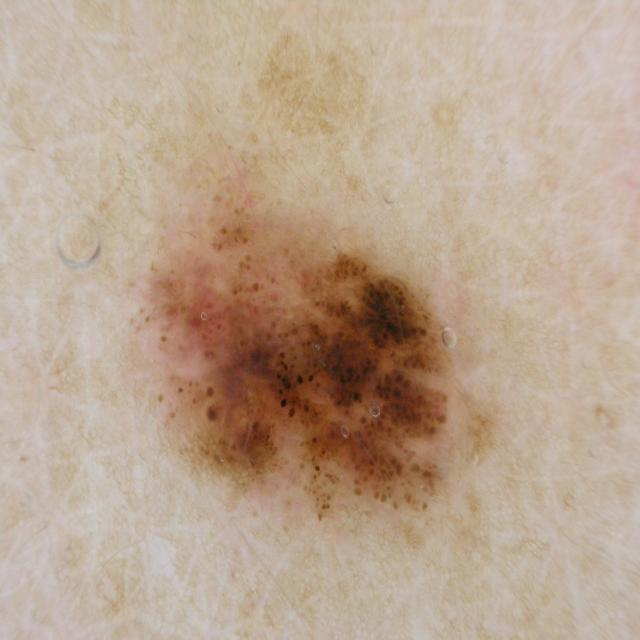Melanoma: (142, 165, 492, 542)
